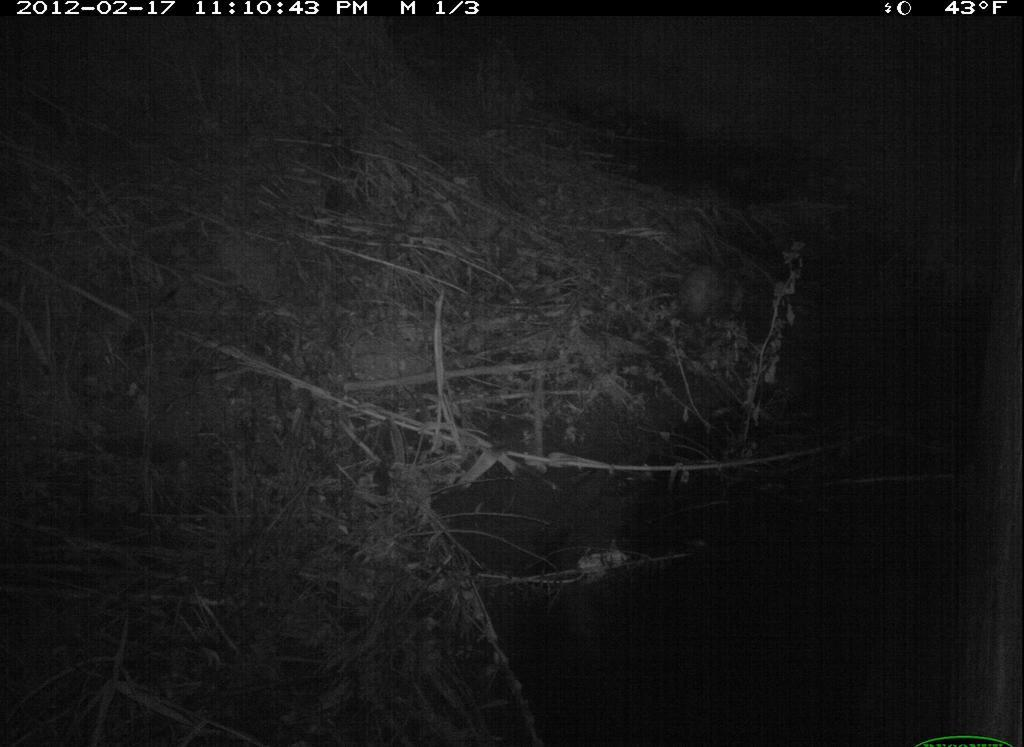opossum: (646, 246, 753, 337)
